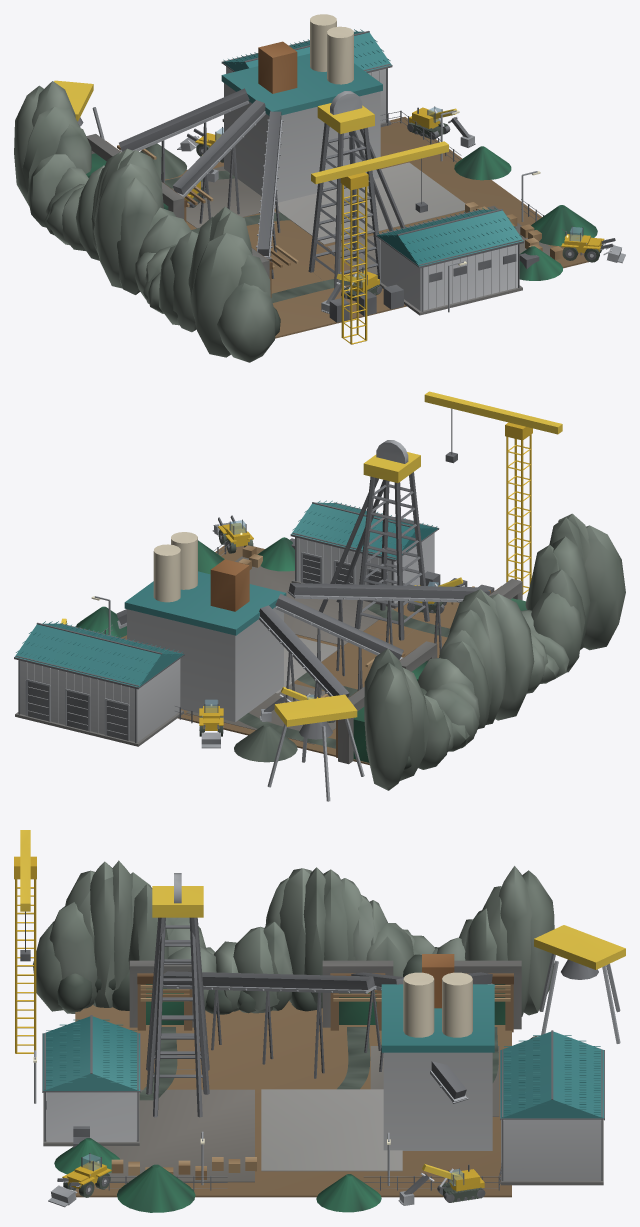
File: Mine_P3.fbx
The picture shows the model from 3 angles, top to bottom: view 1: azimuth 30°, elevation 25°; view 2: azimuth 150°, elevation 25°; view 3: azimuth 270°, elevation 25°; orthographic projection. The views are drawn at different scales.
Parts seen in each view (by area): view 1: Mine.Cliff, Mine.Apron, Mine.Plant, Mine.Winder, Mine.Headframe, Mine.Crane, Mine.Conv1, Mine.Conv2, Mine.Conv0, Mine.Crusher, Mine.Clutter, Mine.Spoil0 (+13 smaller); view 2: Mine.Cliff, Mine.Plant, Mine.Crusher, Mine.Apron, Mine.Headframe, Mine.Winder, Mine.Crane, Mine.Conv0, Mine.LoadGantry, Mine.Conv1, Mine.Conv2, Mine.Spoil2 (+10 smaller); view 3: Mine.Apron, Mine.Cliff, Mine.Plant, Mine.Crusher, Mine.Winder, Mine.Headframe, Mine.Conv0, Mine.LoadGantry, Mine.Adit1, Mine.Crane, Mine.Adit0, Mine.Spoil0 (+11 smaller).
Part boxes in pixels (bbox=[...]): Mine.Cliff: bbox=[14, 81, 280, 362]; Mine.Apron: bbox=[165, 117, 598, 338]; Mine.Plant: bbox=[221, 14, 382, 202]; Mine.Winder: bbox=[376, 207, 524, 315]; Mine.Headframe: bbox=[308, 91, 405, 288]; Mine.Crane: bbox=[311, 141, 448, 344]; Mine.Conv1: bbox=[172, 100, 265, 223]; Mine.Conv2: bbox=[119, 88, 249, 187]; Mine.Conv0: bbox=[256, 111, 283, 278]; Mine.Crusher: bbox=[221, 29, 392, 127]; Mine.Clutter: bbox=[329, 202, 563, 322]; Mine.Spoil0: bbox=[531, 205, 597, 246]; Mine.Cliff: bbox=[364, 513, 625, 790]; Mine.Plant: bbox=[124, 532, 286, 722]; Mine.Crusher: bbox=[14, 621, 184, 746]; Mine.Apron: bbox=[121, 545, 459, 765]; Mine.Headframe: bbox=[319, 440, 429, 640]; Mine.Winder: bbox=[290, 500, 439, 608]; Mine.Crane: bbox=[424, 391, 562, 594]; Mine.Conv0: bbox=[287, 583, 489, 676]; Mine.LoadGantry: bbox=[267, 694, 364, 801]; Mine.Conv1: bbox=[275, 594, 403, 696]; Mine.Conv2: bbox=[259, 605, 349, 702]; Mine.Spoil2: bbox=[234, 724, 297, 762]; Mine.Apron: bbox=[75, 1001, 511, 1197]; Mine.Cliff: bbox=[33, 860, 554, 1016]; Mine.Plant: bbox=[381, 954, 494, 1150]; Mine.Crusher: bbox=[500, 1030, 604, 1185]; Mine.Winder: bbox=[42, 1015, 140, 1146]; Mine.Headframe: bbox=[146, 873, 209, 1117]; Mine.Conv0: bbox=[163, 971, 376, 1078]; Mine.LoadGantry: bbox=[534, 925, 625, 1043]; Mine.Adit1: bbox=[322, 960, 393, 1030]; Mine.Crane: bbox=[14, 830, 36, 1053]; Mine.Adit0: bbox=[129, 960, 193, 1030]; Mine.Spoil0: bbox=[117, 1164, 195, 1212].
Size of the model in its own units: 8743 by 3937 by 9526.
